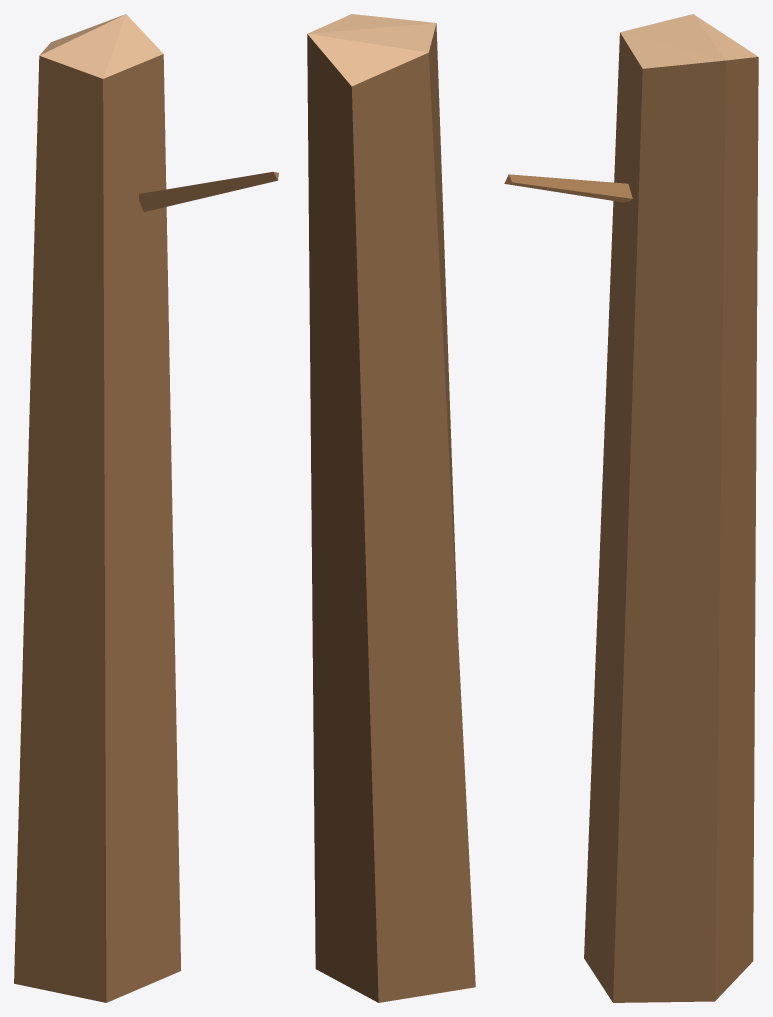
The model's file is pine-tree-noleaves-crk-l-03.glb.
The picture shows the model from 3 angles, left to right: view 1: azimuth 30°, elevation 25°; view 2: azimuth 150°, elevation 25°; view 3: azimuth 270°, elevation 25°; orthographic projection. The views are drawn at different scales.
Visible parts, largest first — view 1: Pine_Tree_NoLeaves_crk_l_03; view 2: Pine_Tree_NoLeaves_crk_l_03; view 3: Pine_Tree_NoLeaves_crk_l_03.
Part boxes in pixels (left/top/right/bottom): Pine_Tree_NoLeaves_crk_l_03: left=14, top=14, right=278, bottom=1002; Pine_Tree_NoLeaves_crk_l_03: left=307, top=14, right=475, bottom=1002; Pine_Tree_NoLeaves_crk_l_03: left=504, top=14, right=758, bottom=1002.
Size of the model in its own units: 0.8759 by 4.1 by 1.
Materials: 1 (1 with a texture image).
